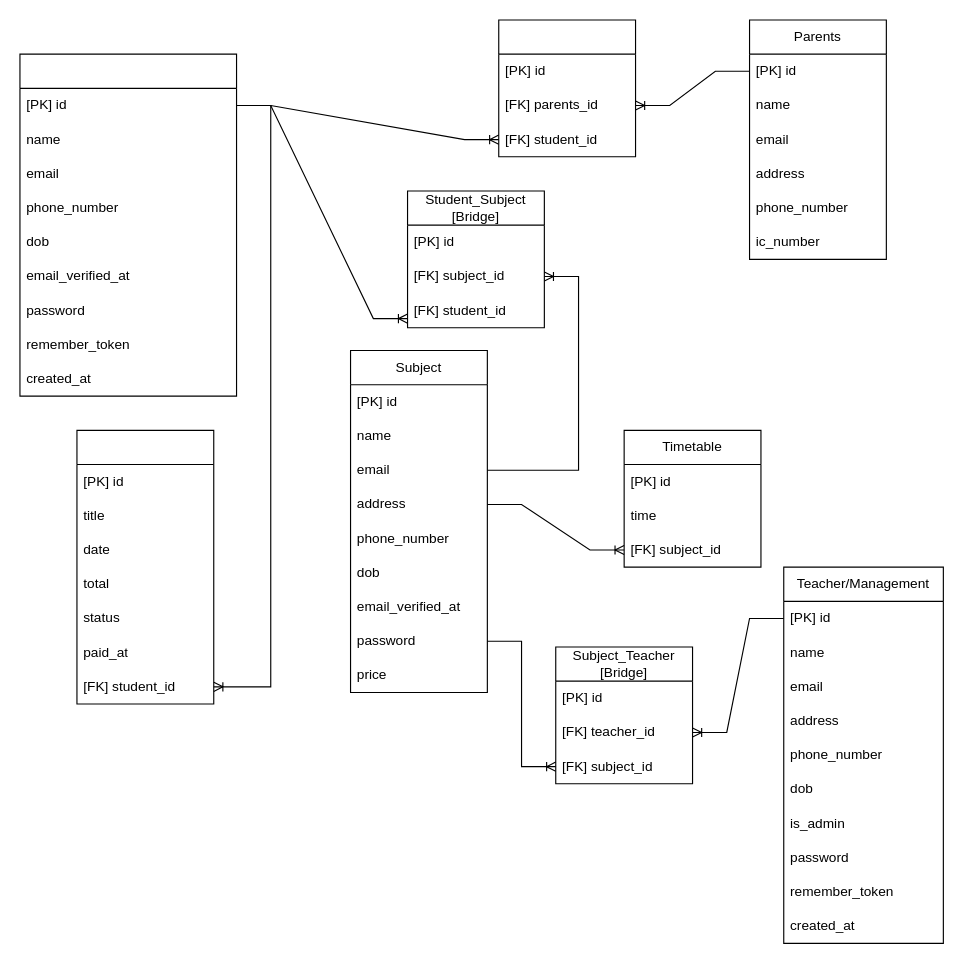
This 963x963 diagram has some shape labels left out. Here are the shapes that lost their labels. From the top down, the box of each, then its label:
(498, 19, 636, 157): Student_Parents [Bridge]
(19, 53, 237, 396): Student
(76, 429, 214, 704): Bill
